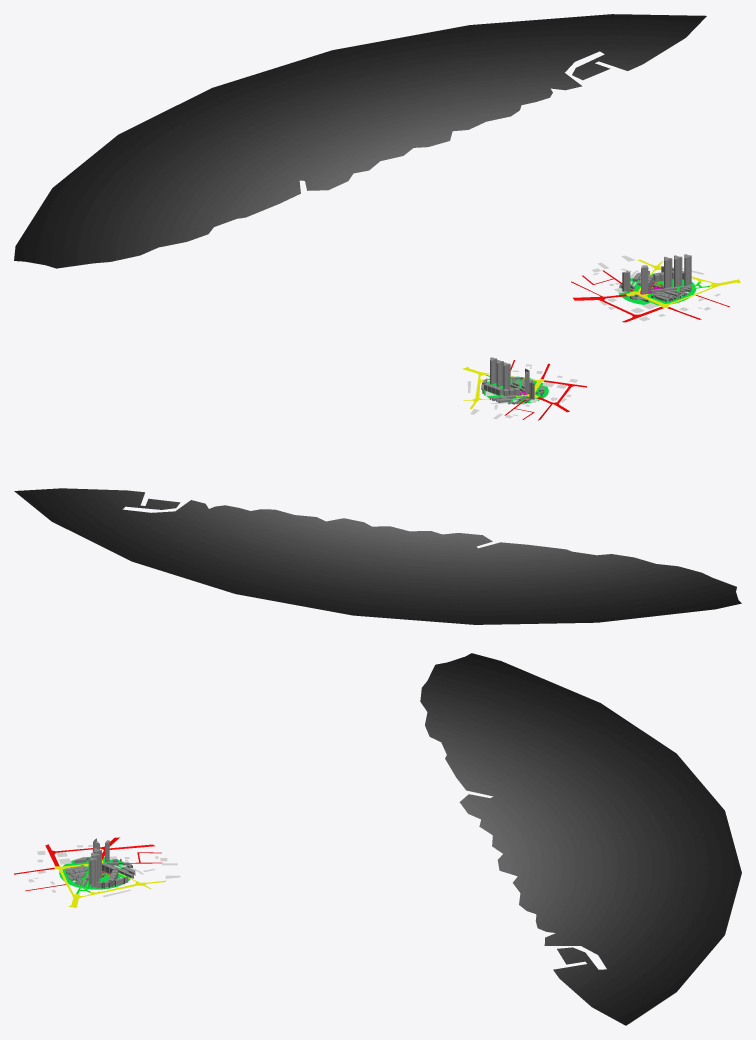
File: Enviroment_9.fbx
The picture shows the model from 3 angles, top to bottom: view 1: azimuth 30°, elevation 25°; view 2: azimuth 150°, elevation 25°; view 3: azimuth 270°, elevation 25°; orthographic projection. The views are drawn at different scales.
Parts seen in each view (by area): view 1: Water, City, Road_3, circle, Road_2; view 2: Water, City, Road_3; view 3: Water, City, Road_3.
Part boxes in pixels (box(x1,y1,x2,y2)): Water: box(14, 14, 706, 268); City: box(619, 266, 692, 302); Road_3: box(571, 270, 729, 322); circle: box(618, 274, 695, 305); Road_2: box(626, 259, 740, 307); Water: box(14, 488, 741, 624); City: box(481, 376, 544, 404); Road_3: box(504, 360, 586, 420); Water: box(420, 653, 741, 1025); City: box(66, 857, 135, 888); Road_3: box(14, 837, 161, 891).
Bounding box in the file's own units: 499223 × 19252 × 411949.
